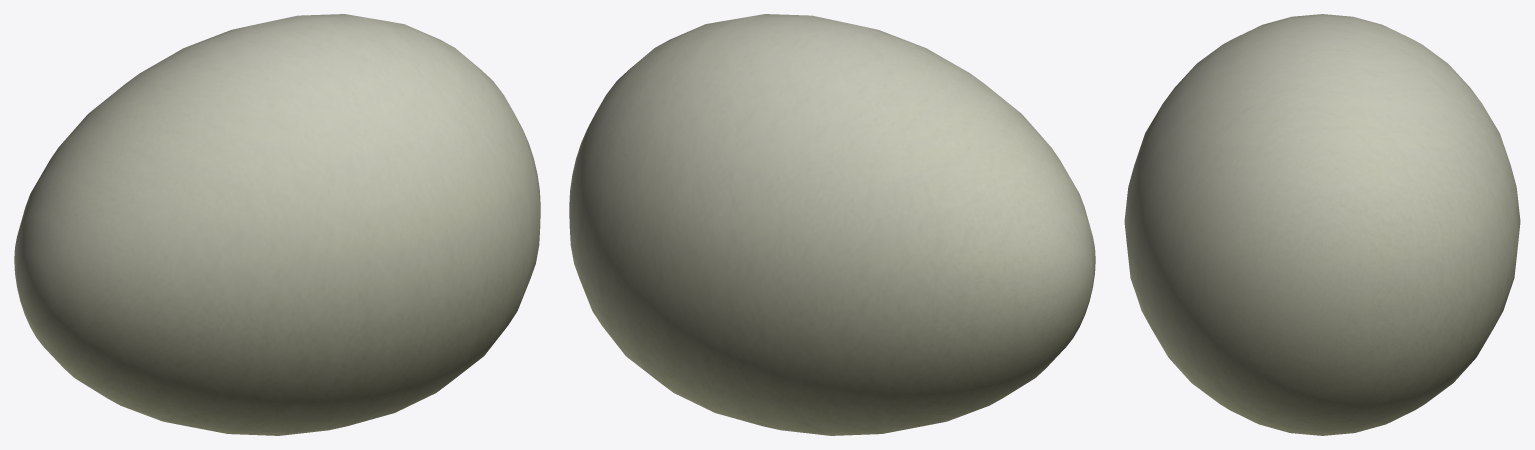
File: jidan_03.FBX
The picture shows the model from 3 angles, left to right: view 1: azimuth 30°, elevation 25°; view 2: azimuth 150°, elevation 25°; view 3: azimuth 270°, elevation 25°; orthographic projection. The views are drawn at different scales.
Parts seen in each view (by area): view 1: jidan_03; view 2: jidan_03; view 3: jidan_03.
Part boxes in pixels (x1,y1,x2,y2): jidan_03: [14, 14, 540, 435]; jidan_03: [569, 14, 1095, 435]; jidan_03: [1124, 14, 1520, 435].
Bounding box in the file's own units: 6.84 × 5.05 × 5.12.
